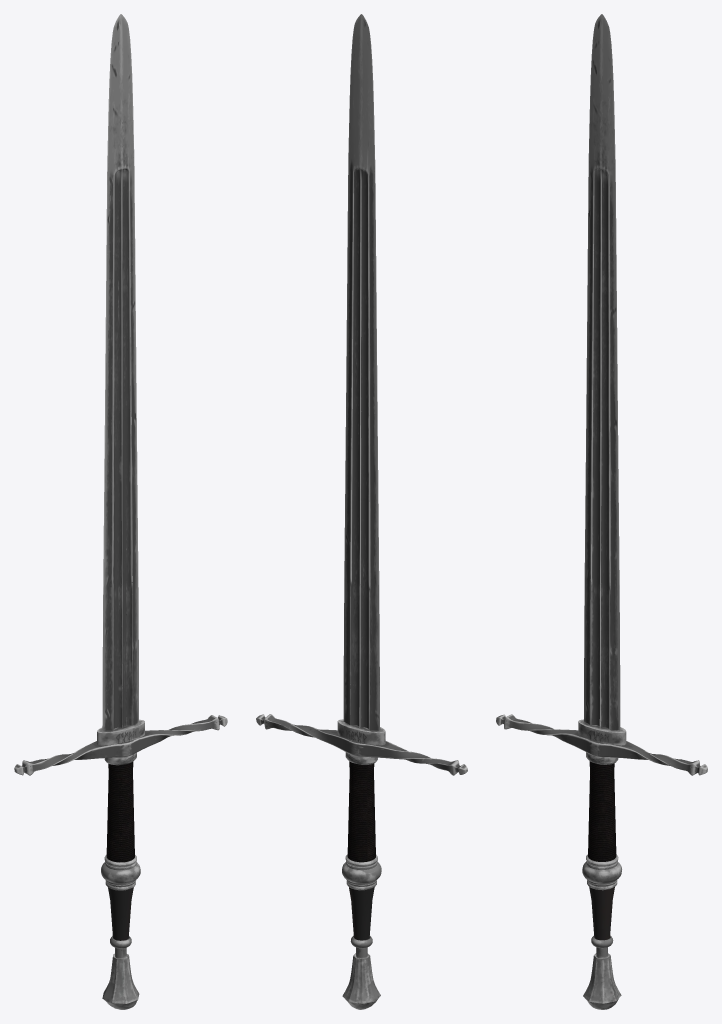
File: arming_sword.glb
The picture shows the model from 3 angles, left to right: view 1: azimuth 30°, elevation 25°; view 2: azimuth 150°, elevation 25°; view 3: azimuth 330°, elevation 25°; orthographic projection.
Visible parts, largest first — view 1: arming_sword; view 2: arming_sword; view 3: arming_sword.
Boxes of the visible parts, bbox=[...] form: arming_sword: bbox=[14, 14, 227, 1009]; arming_sword: bbox=[256, 14, 467, 1009]; arming_sword: bbox=[496, 14, 707, 1009].
Bounding box in the file's own units: 0.2216 × 1 × 0.0367.
Materials: 3 (3 with a texture image).
